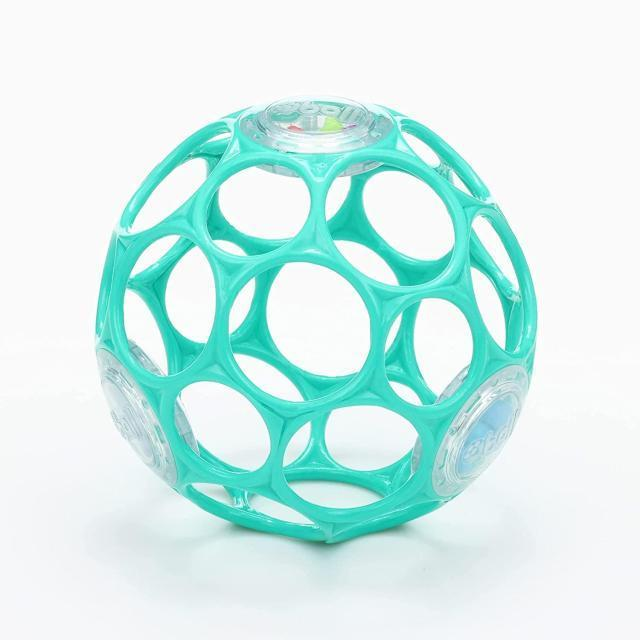hard-toy: (98, 98, 536, 542)
